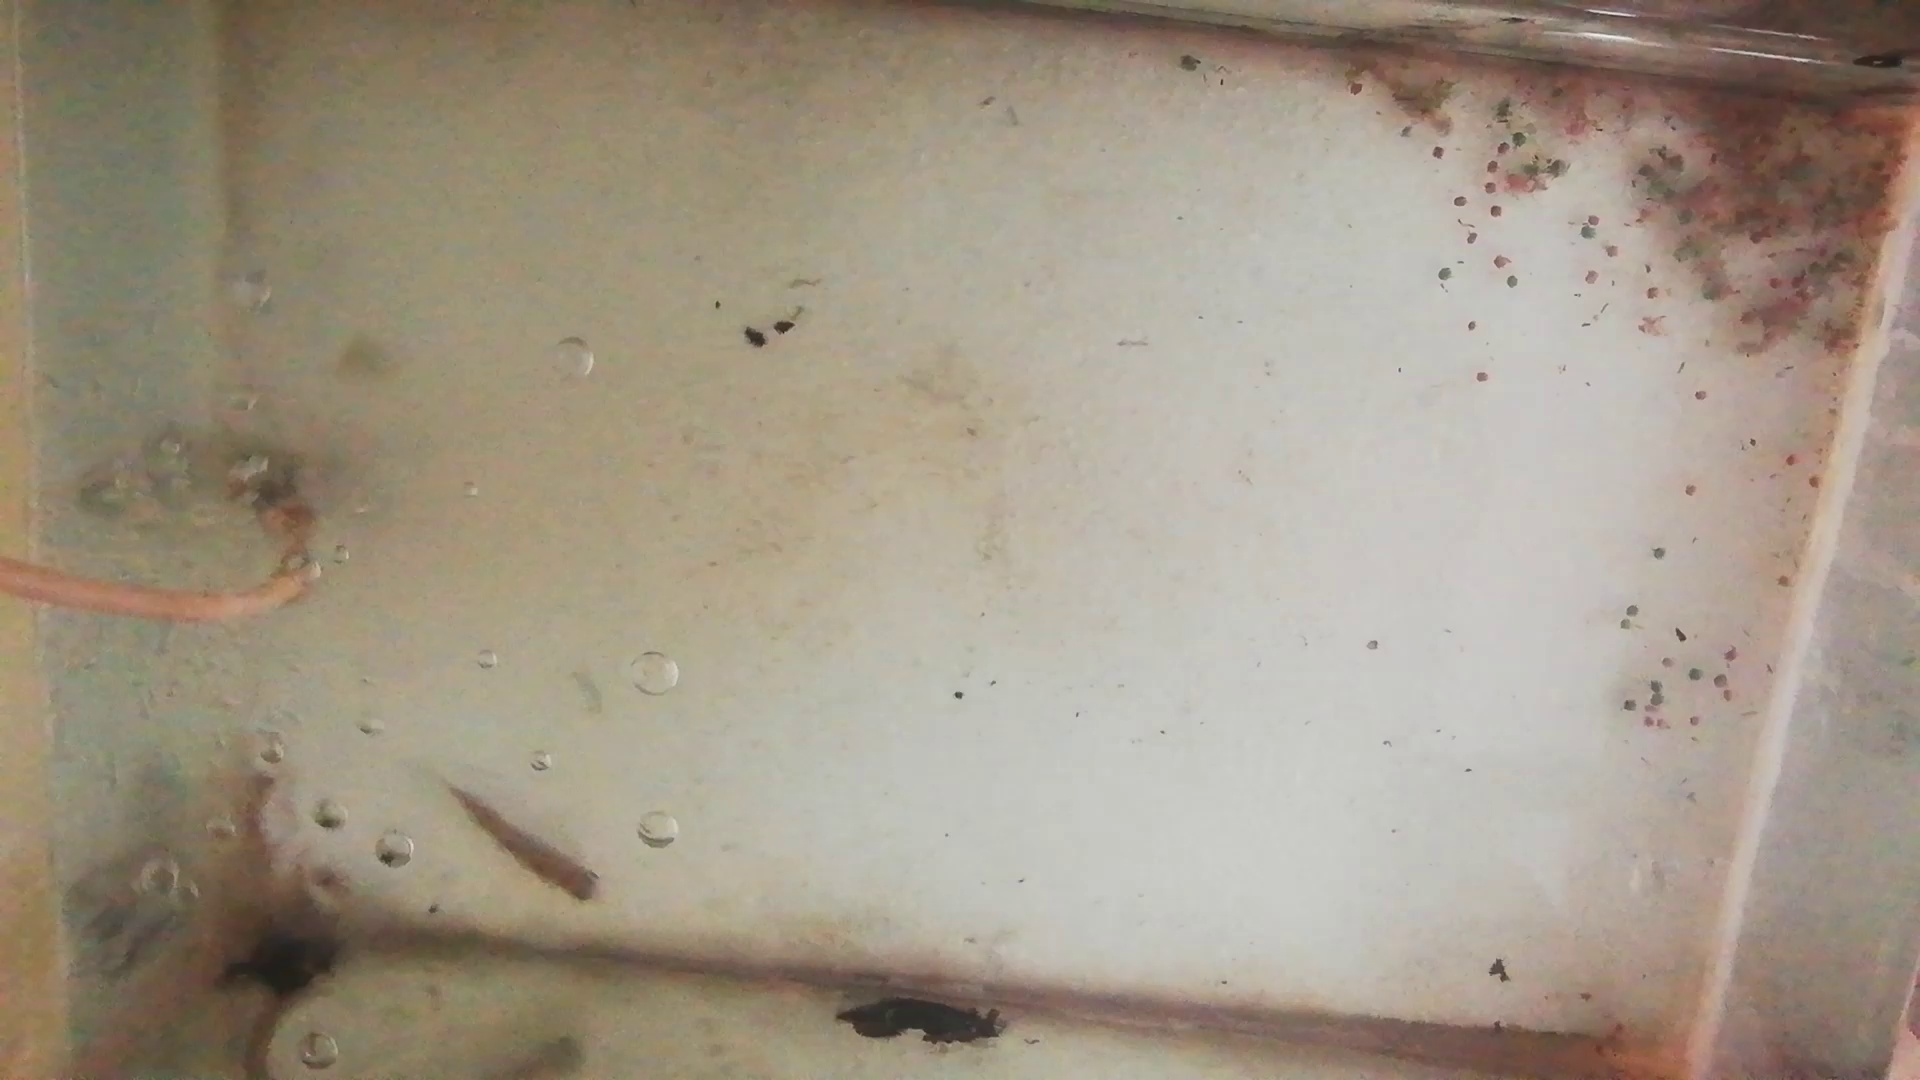fish: (451, 789, 603, 910), (231, 760, 291, 922)
